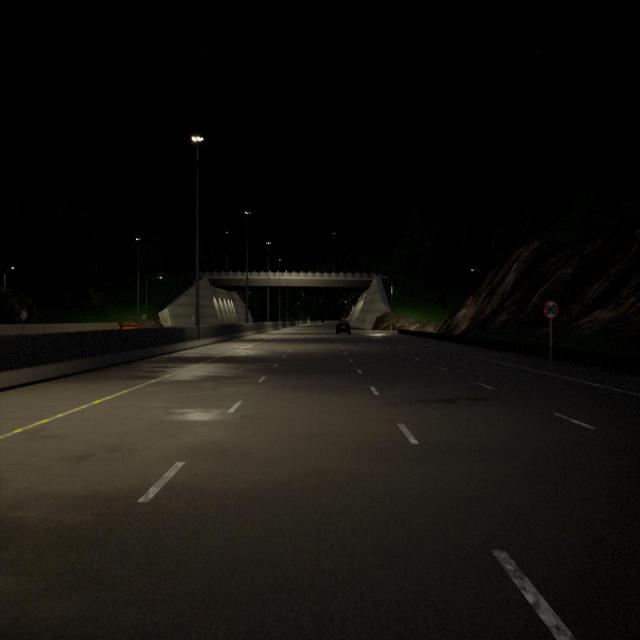Traffic_Signs: (543, 301, 558, 319), (21, 311, 27, 319), (142, 314, 147, 320), (192, 316, 195, 320)
Vehicle: (336, 320, 351, 335)
